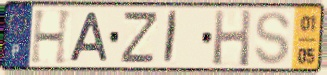A: (66, 11, 111, 64)
H: (29, 8, 75, 67), (211, 8, 253, 69)
I: (161, 9, 181, 67)
S: (252, 10, 293, 67)
Z: (118, 10, 161, 65)
